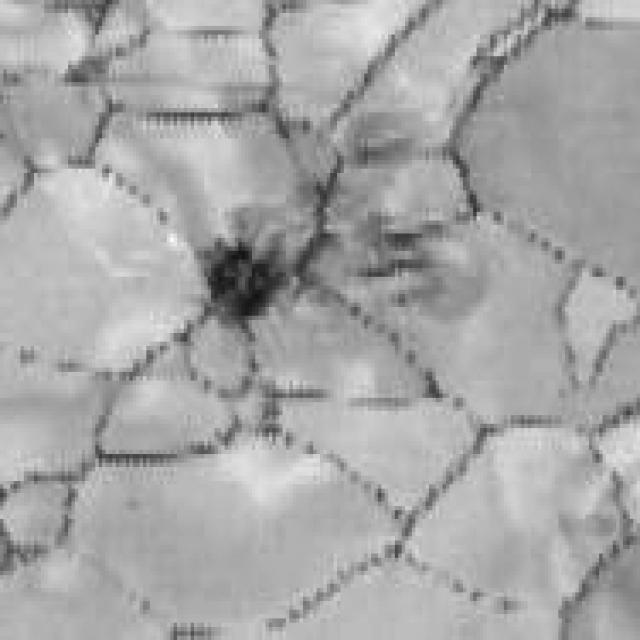good_void: (197, 219, 297, 327)
